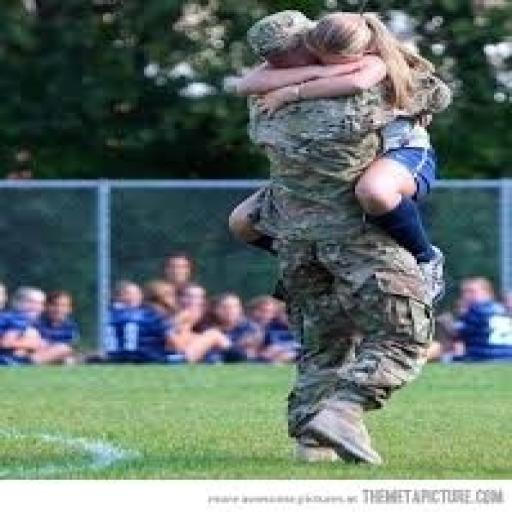hugging: (224, 8, 455, 468)
